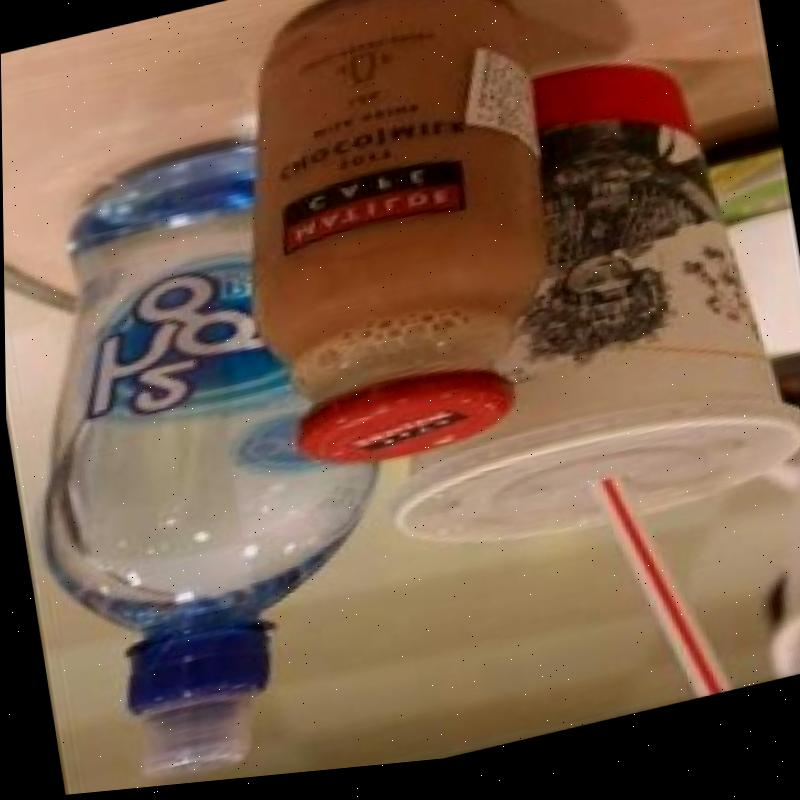botella: (2, 101, 412, 800)
